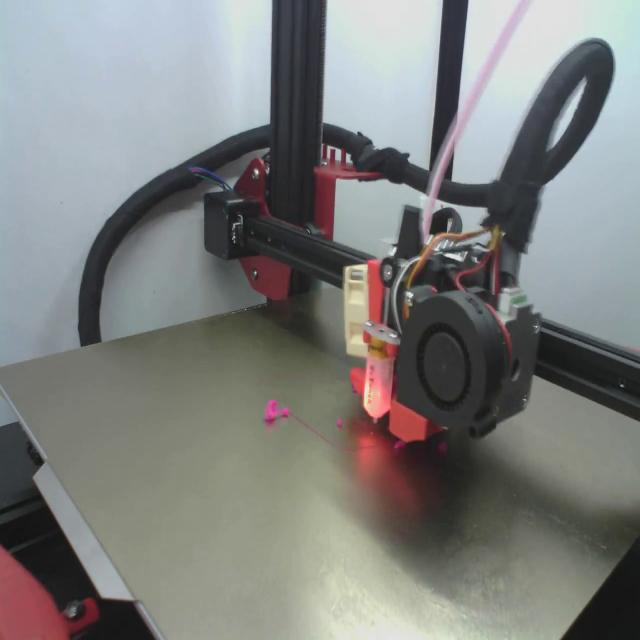spaghetti: (265, 400, 380, 452), (438, 440, 448, 455), (394, 440, 406, 450), (336, 418, 342, 428)
